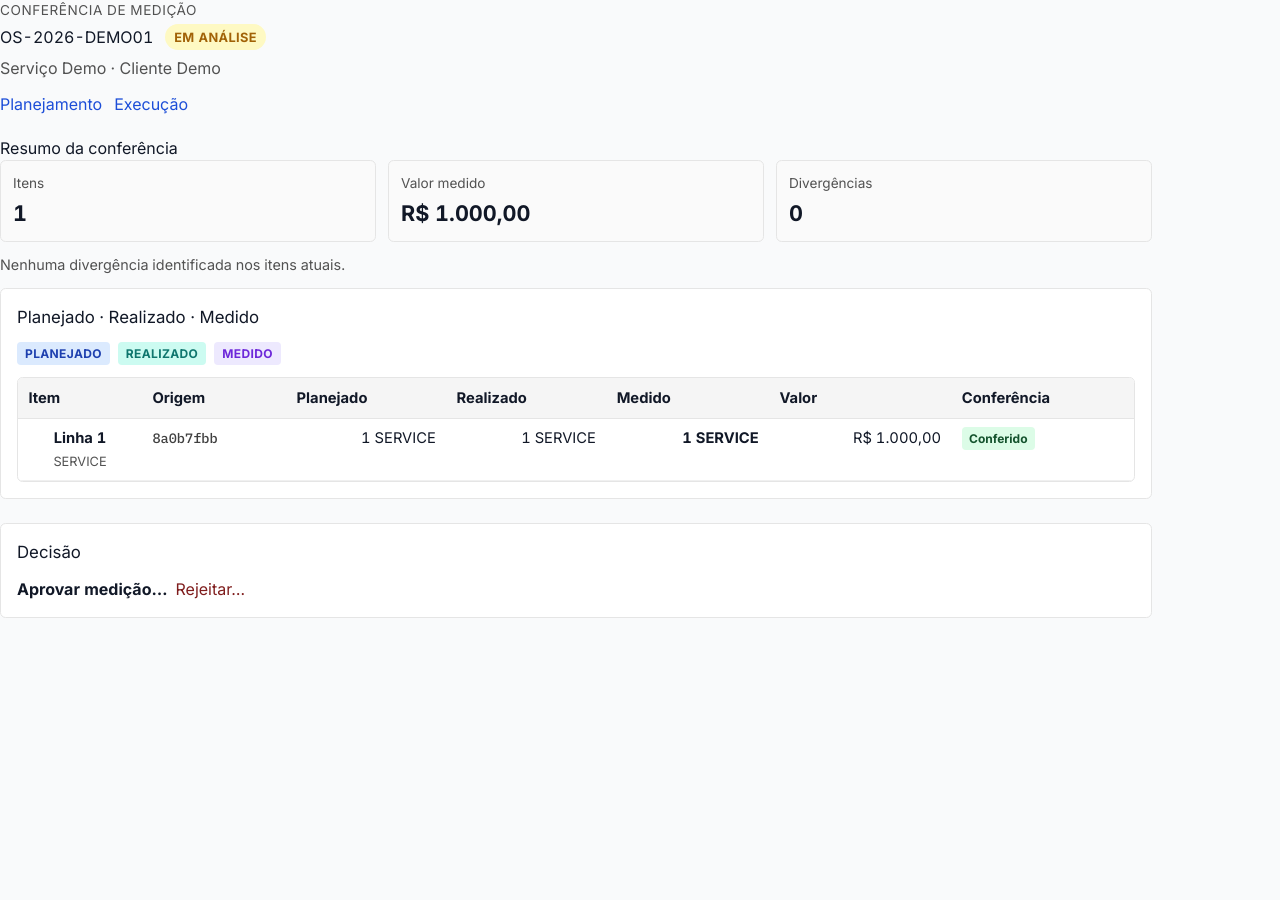
Test case: ServiceOrderMeasurementPage › requires acknowledgement before approving
Click the button "Aprovar medição…".
click(92, 589)  # box [17,577,168,601]
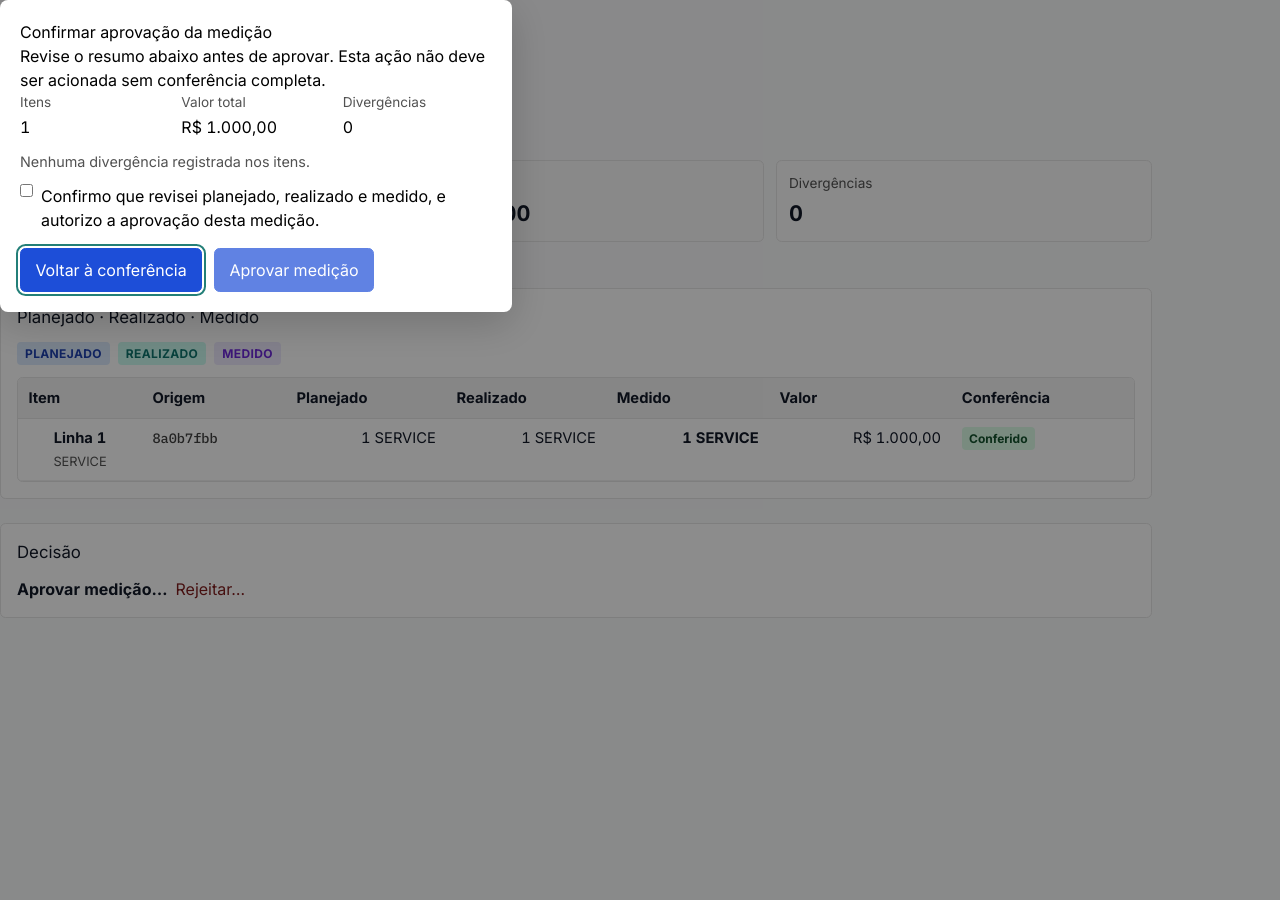
Result: the button "Aprovar medição" is disabled at [214,248,374,292]
Click the checkbox.
click(26, 191)  # box [20,184,33,197]
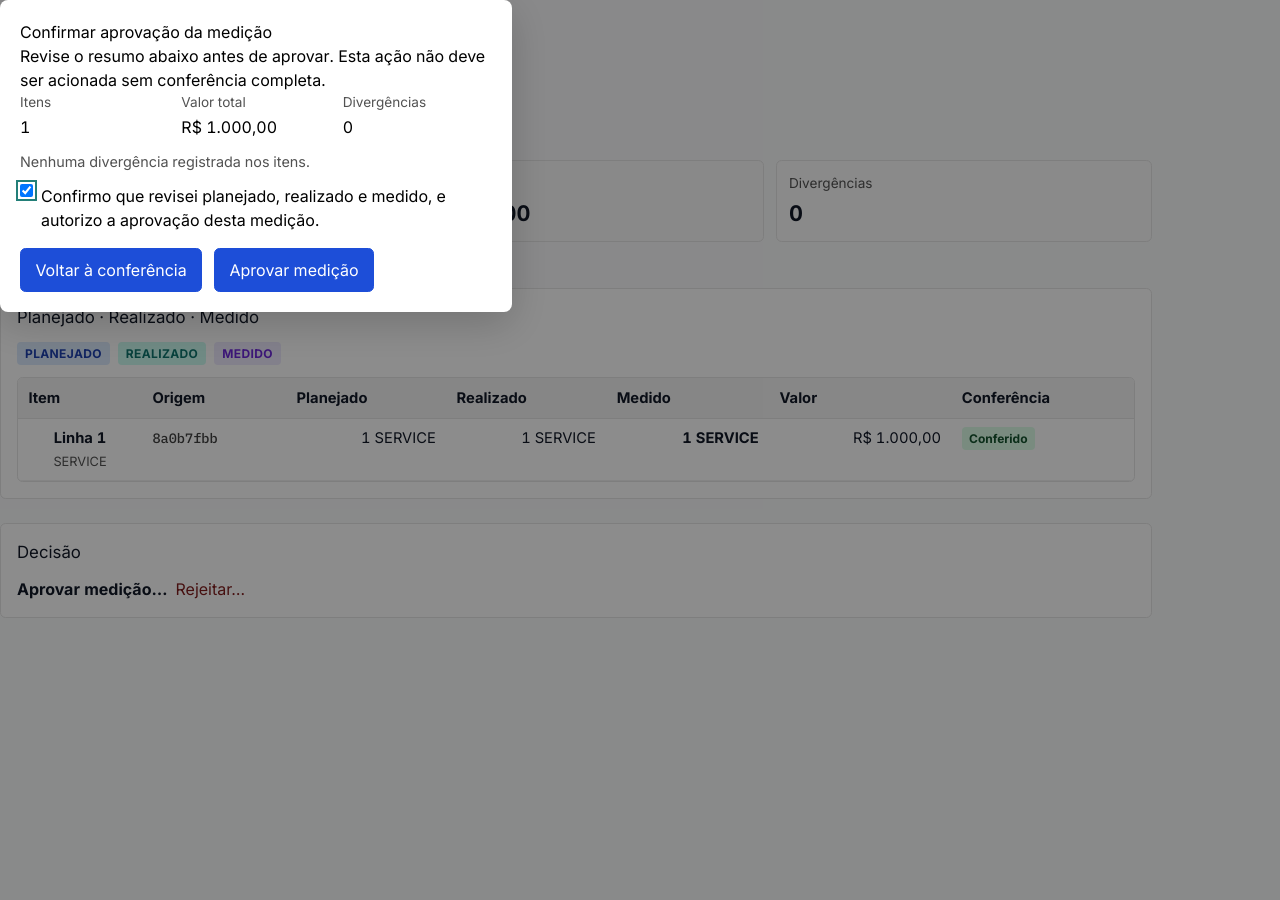
Result: the button "Aprovar medição" is enabled
Click the button "Aprovar medição".
click(294, 270)  # box [214,248,374,292]
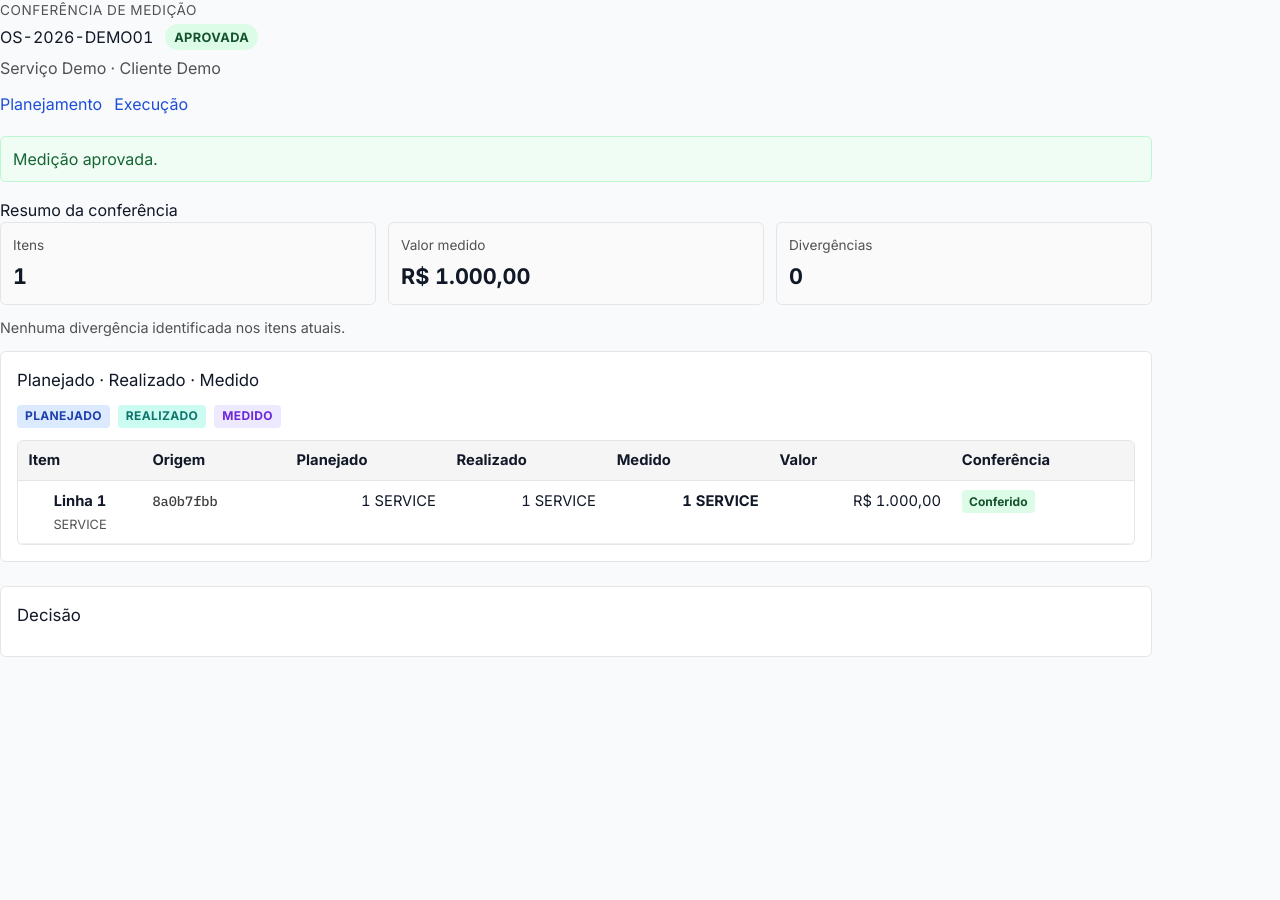
Result: the text "Medição aprovada." is shown at [0,136,1152,182]
Result: the element with class "measurement-status--approved" reads "Aprovada" at [174,30,249,45]
